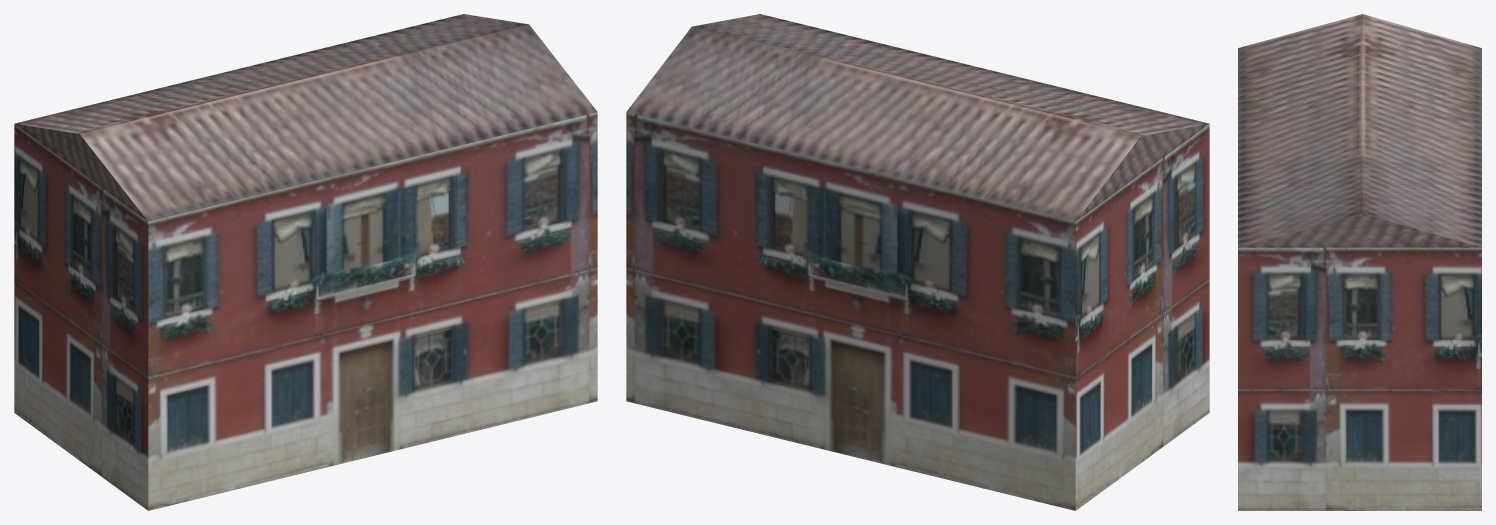
The model's file is building.house_03.glb.
3 renders of one model, left to right at view 1: azimuth 30°, elevation 25°; view 2: azimuth 150°, elevation 25°; view 3: azimuth 270°, elevation 25°, orthographic. The views are drawn at different scales.
Visible parts, largest first — view 1: Cube012; view 2: Cube012; view 3: Cube012.
Part boxes in pixels (left/top/right/bottom): Cube012: left=14, top=14, right=597, bottom=510; Cube012: left=626, top=14, right=1209, bottom=510; Cube012: left=1238, top=14, right=1481, bottom=510.
Bounding box in the file's own units: 7.96 × 5.53 × 4.11.
Materials: 1 (1 with a texture image).
